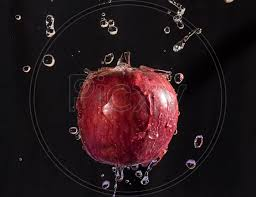apple: (79, 51, 179, 169)
